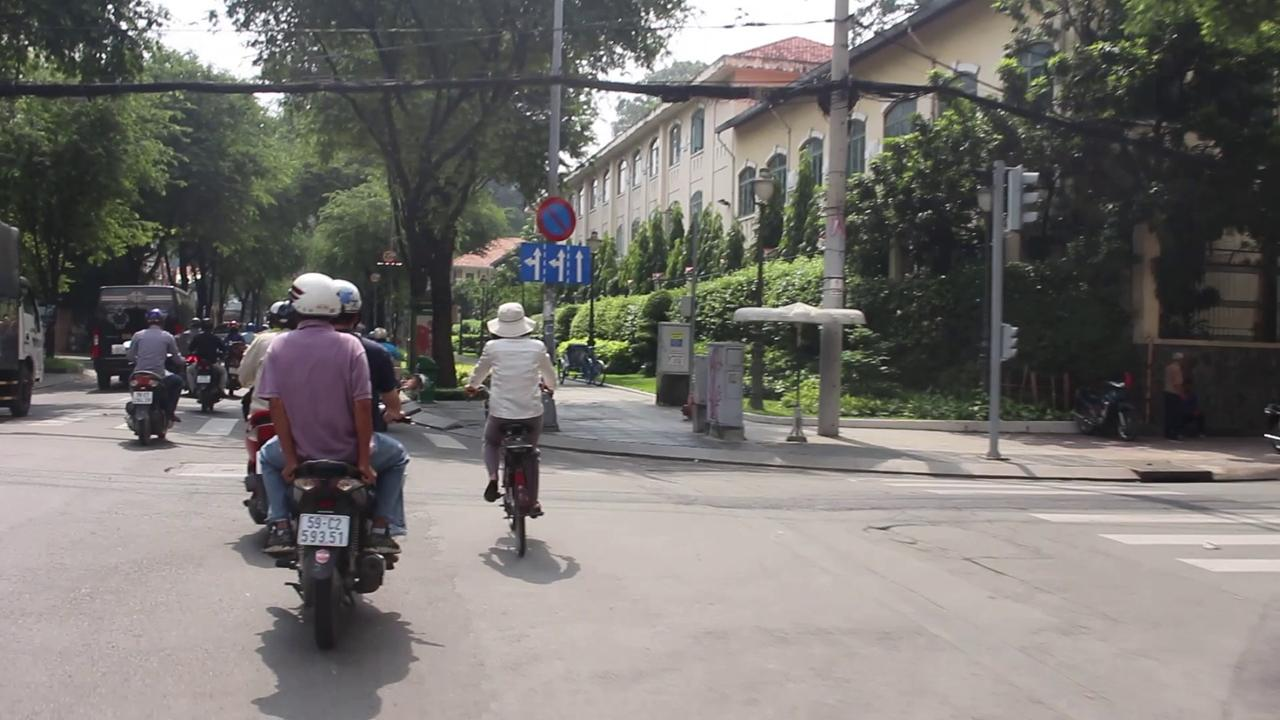P.103a: (534, 196, 579, 244)
